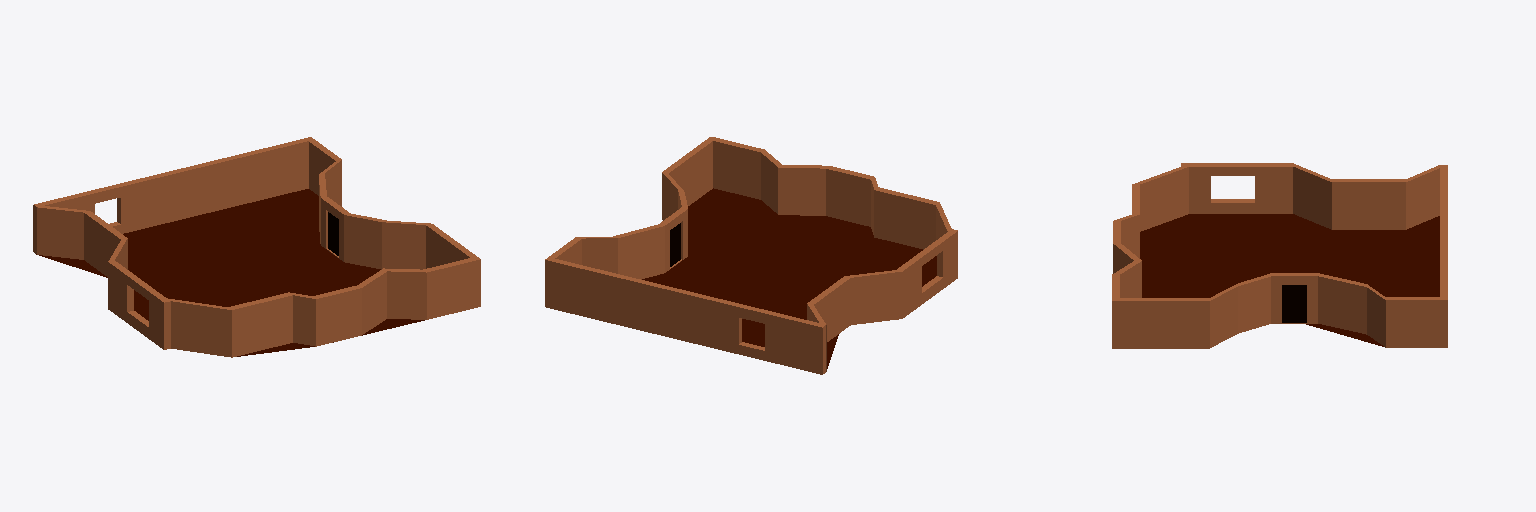
File: sale2.obj
3 views of the same model, side by side, from view 1: azimuth 30°, elevation 25°; view 2: azimuth 150°, elevation 25°; view 3: azimuth 270°, elevation 25° (orthographic).
Visible parts, largest first — view 1: Plane; view 2: Plane; view 3: Plane.
Boxes of the visible parts, box(x1,y1,x2,y2) form: Plane: box(33, 137, 480, 357); Plane: box(545, 137, 957, 374); Plane: box(1112, 163, 1447, 348).
Bounding box in the file's own units: 12.46 × 2 × 12.84.